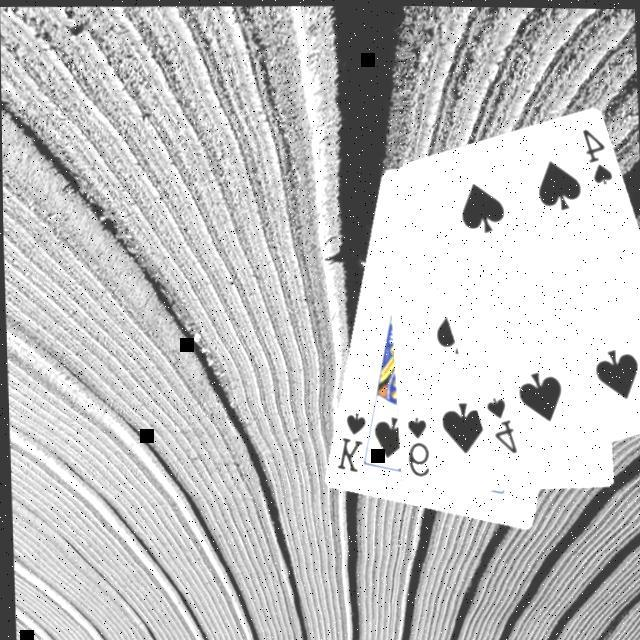4S: (479, 393, 517, 456), (575, 124, 613, 187)
6S: (399, 413, 429, 479)
KS: (327, 408, 367, 476)
